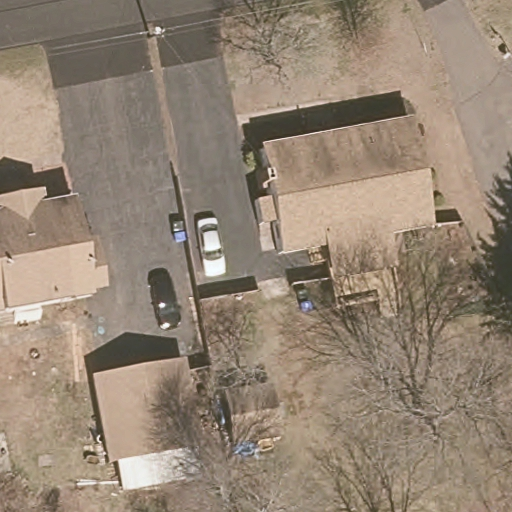DT: (146, 24, 165, 39)
